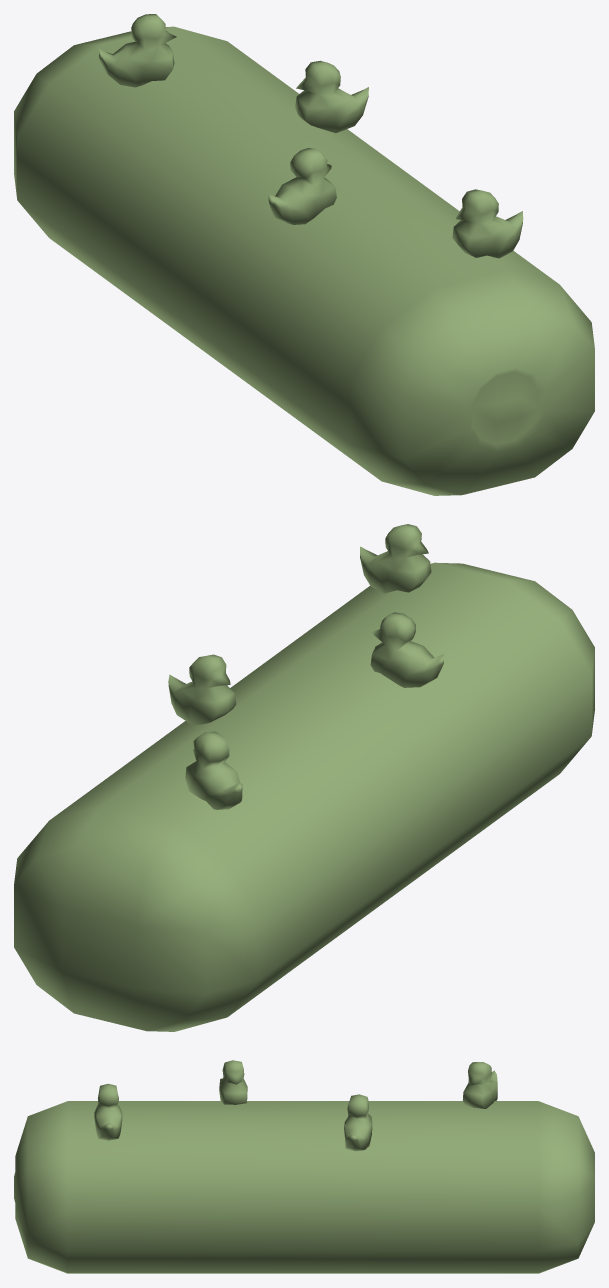
The model's file is PROPS_GOODS_ECLAIR_MODEL.fbx.
3 renders of one model, top to bottom at view 1: azimuth 30°, elevation 25°; view 2: azimuth 150°, elevation 25°; view 3: azimuth 270°, elevation 25°, orthographic. The views are drawn at different scales.
Parts seen in each view (by area): view 1: PROPS_GOODS_ECLAIR_MODEL; view 2: PROPS_GOODS_ECLAIR_MODEL; view 3: PROPS_GOODS_ECLAIR_MODEL.
Part boxes in pixels (bbox=[...]): PROPS_GOODS_ECLAIR_MODEL: bbox=[14, 14, 594, 495]; PROPS_GOODS_ECLAIR_MODEL: bbox=[14, 524, 594, 1031]; PROPS_GOODS_ECLAIR_MODEL: bbox=[14, 1060, 594, 1273].
Size of the model in its own units: 6.12 by 6.41 by 17.97.
